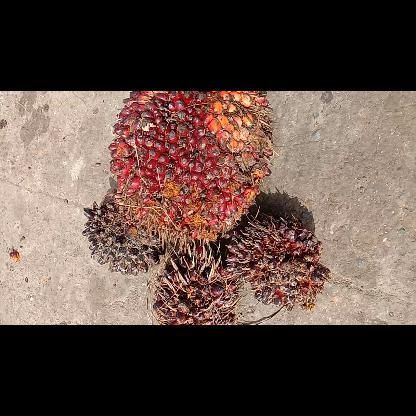TBS abnormal: (224, 212, 332, 314), (80, 188, 166, 278), (150, 244, 242, 324)
TBS masak: (104, 90, 276, 254)
